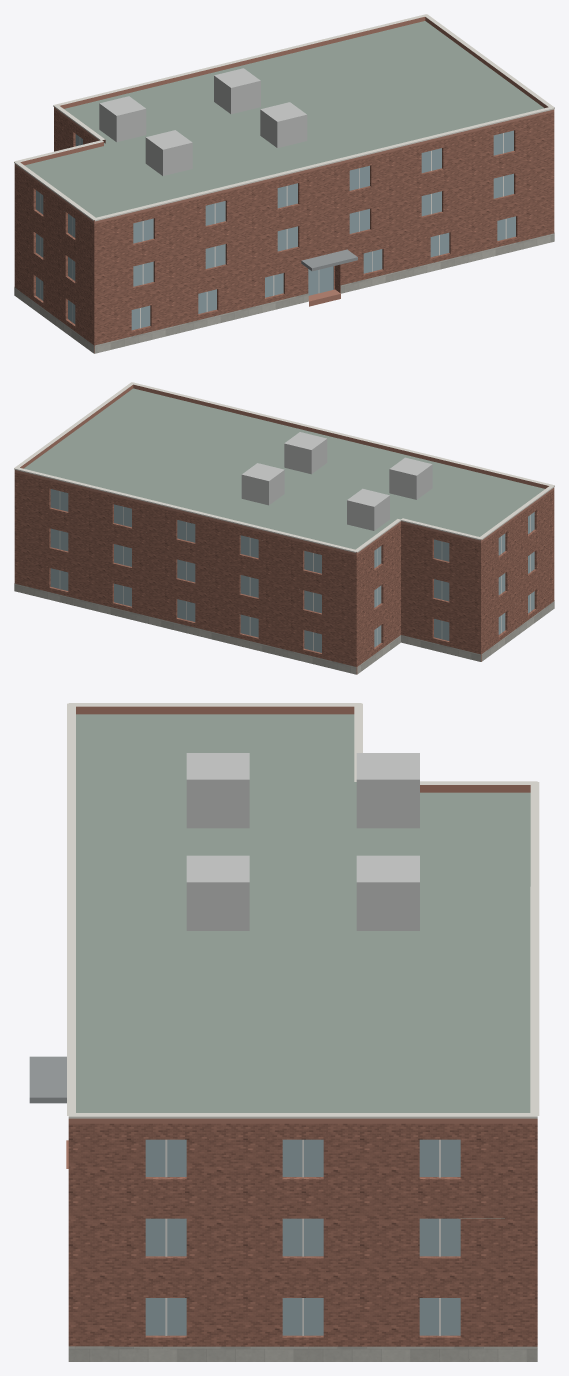
The picture shows the model from 3 angles, top to bottom: view 1: azimuth 30°, elevation 25°; view 2: azimuth 150°, elevation 25°; view 3: azimuth 270°, elevation 25°; orthographic projection. The views are drawn at different scales.
Visible parts, largest first — view 1: b115951807__wall, b115951807__roof, b115951807__glass, b115951807__roofMetal, b115951807__parapet, b115951807__base, b115951807__trim, b115951807__frame, b115951807__canopy; view 2: b115951807__wall, b115951807__roof, b115951807__glass, b115951807__roofMetal, b115951807__base, b115951807__parapet, b115951807__trim, b115951807__frame; view 3: b115951807__roof, b115951807__wall, b115951807__roofMetal, b115951807__glass, b115951807__trim, b115951807__base, b115951807__parapet, b115951807__canopy, b115951807__frame.
Boxes of the visible parts, left/top/right/bottom form: b115951807__wall: left=14, top=109, right=554, bottom=353; b115951807__roof: left=25, top=21, right=543, bottom=353; b115951807__glass: left=36, top=130, right=515, bottom=330; b115951807__roofMetal: left=99, top=68, right=307, bottom=175; b115951807__parapet: left=14, top=17, right=554, bottom=223; b115951807__base: left=14, top=233, right=554, bottom=353; b115951807__trim: left=14, top=14, right=554, bottom=221; b115951807__frame: left=40, top=133, right=506, bottom=328; b115951807__canopy: left=301, top=249, right=357, bottom=271; b115951807__wall: left=14, top=472, right=554, bottom=674; b115951807__roof: left=24, top=388, right=544, bottom=549; b115951807__glass: left=50, top=489, right=534, bottom=652; b115951807__roofMetal: left=241, top=432, right=432, bottom=530; b115951807__base: left=14, top=583, right=554, bottom=674; b115951807__parapet: left=14, top=384, right=554, bottom=555; b115951807__trim: left=14, top=382, right=554, bottom=552; b115951807__frame: left=59, top=491, right=530, bottom=650; b115951807__roof: left=76, top=714, right=530, bottom=1218; b115951807__wall: left=68, top=1123, right=537, bottom=1346; b115951807__roofMetal: left=186, top=753, right=419, bottom=930; b115951807__glass: left=145, top=1139, right=460, bottom=1335; b115951807__trim: left=67, top=703, right=539, bottom=1118; b115951807__base: left=68, top=1346, right=537, bottom=1361; b115951807__parapet: left=68, top=706, right=537, bottom=1123; b115951807__canopy: left=29, top=1056, right=66, bottom=1103; b115951807__frame: left=165, top=1139, right=440, bottom=1335.
Size of the model in its own units: 40.28 by 13.4 by 20.97.
Materials: 11 (2 with a texture image).
